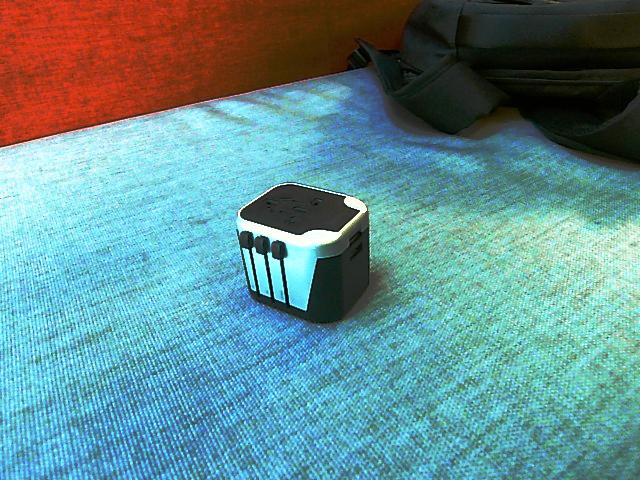adapter: (234, 181, 370, 323)
